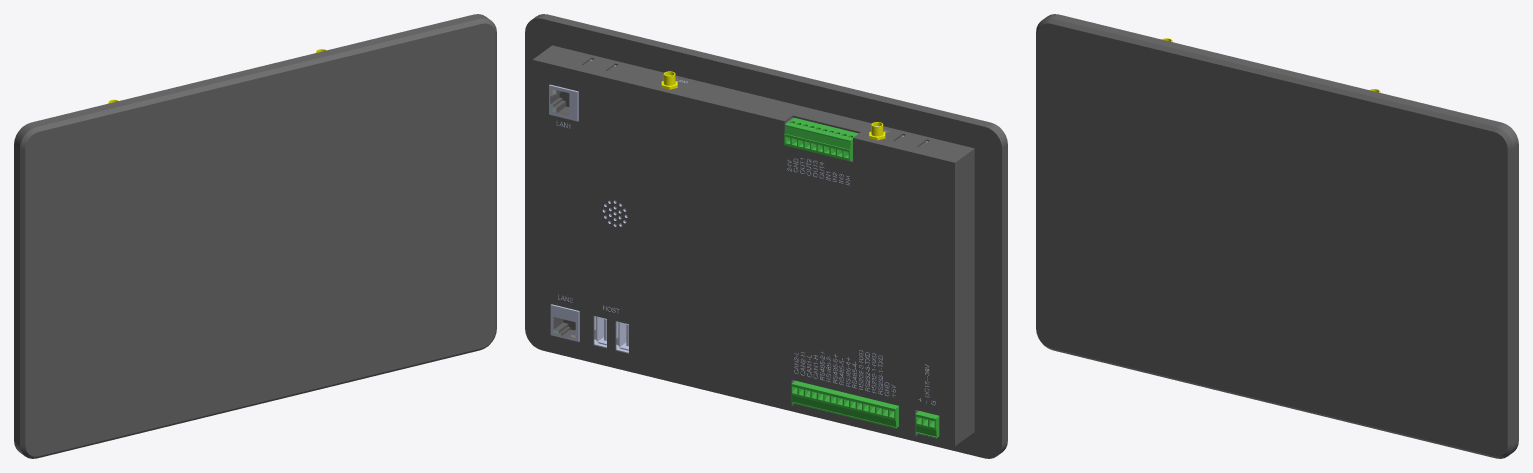
Rendered from PPC-A9-101-C.fbx.
The picture shows the model from 3 angles, left to right: view 1: azimuth 30°, elevation 25°; view 2: azimuth 150°, elevation 25°; view 3: azimuth 330°, elevation 25°; orthographic projection.
Visible parts, largest first — view 1: Part 64; view 2: Part 64, Part 65, Part 61, Part 66; view 3: Part 64.
Boxes of the visible parts, x1,y1,x2,y2 form: Part 64: (14, 14, 496, 458); Part 64: (525, 14, 1007, 458); Part 65: (784, 118, 939, 438); Part 61: (549, 59, 936, 437); Part 66: (661, 71, 885, 140); Part 64: (1036, 14, 1518, 458).
Size of the model in its own units: 28 by 18.6 by 3.
